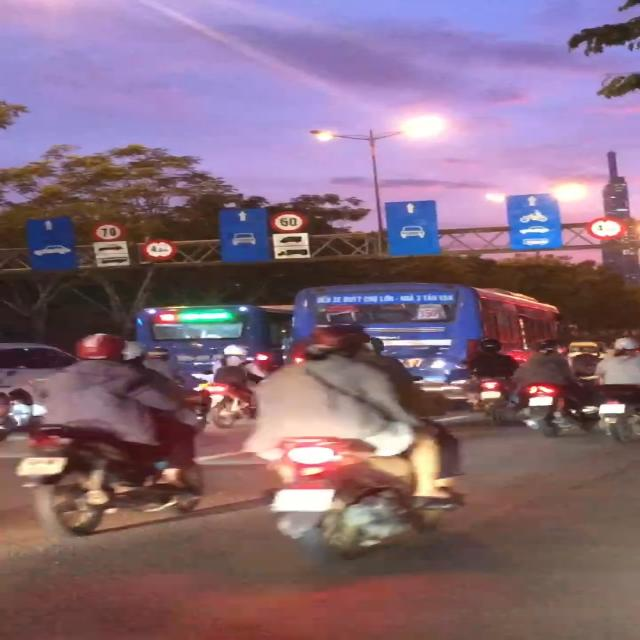Bien bao han che chieu cao: (140, 239, 180, 260)
Bien bao toc do toi da cho phep: (267, 210, 309, 232), (91, 221, 127, 242)
